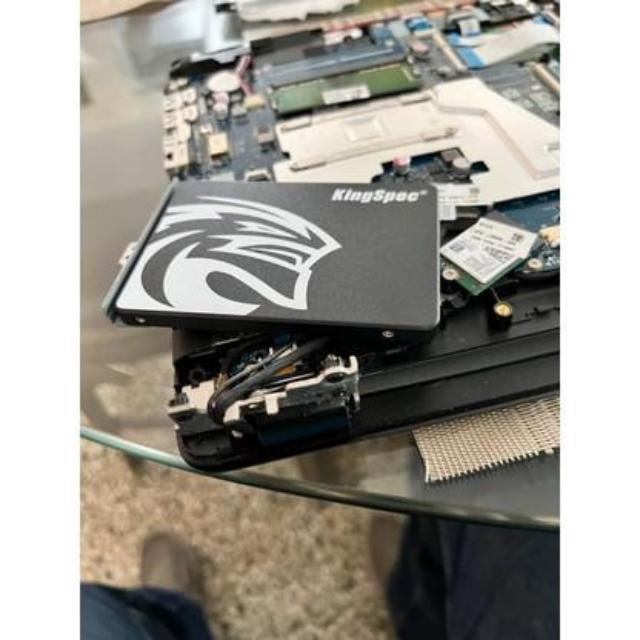DISK: (105, 167, 448, 345)
